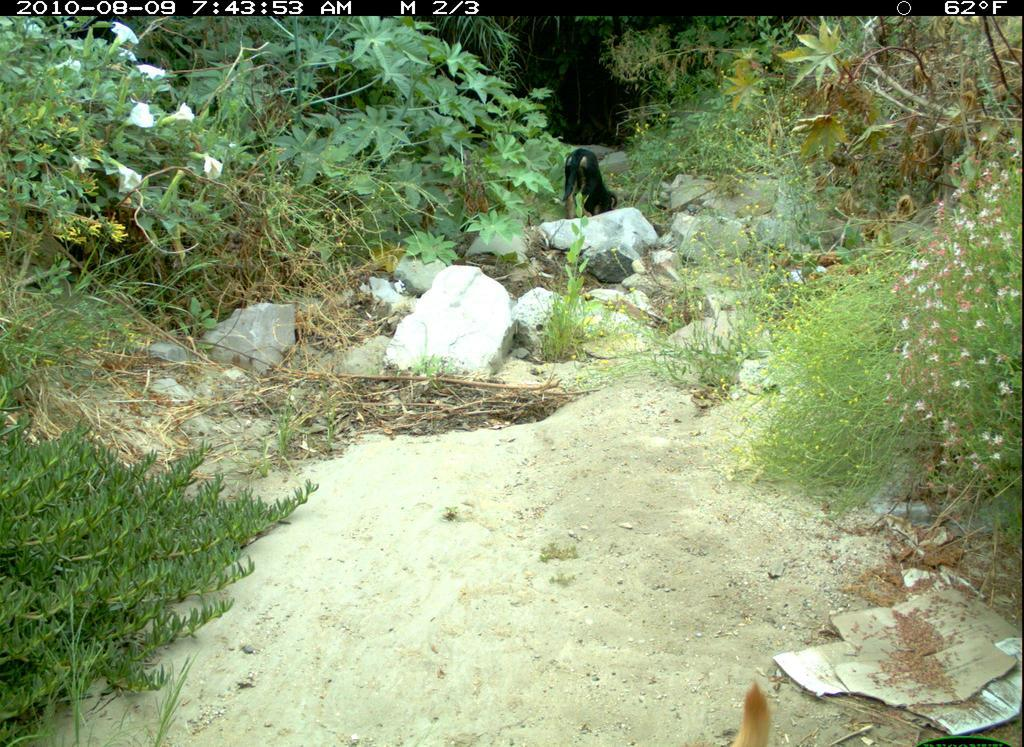dog: (664, 678, 775, 747), (547, 141, 644, 219)
